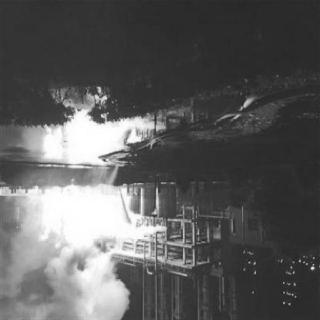Fire: (26, 180, 170, 282)
